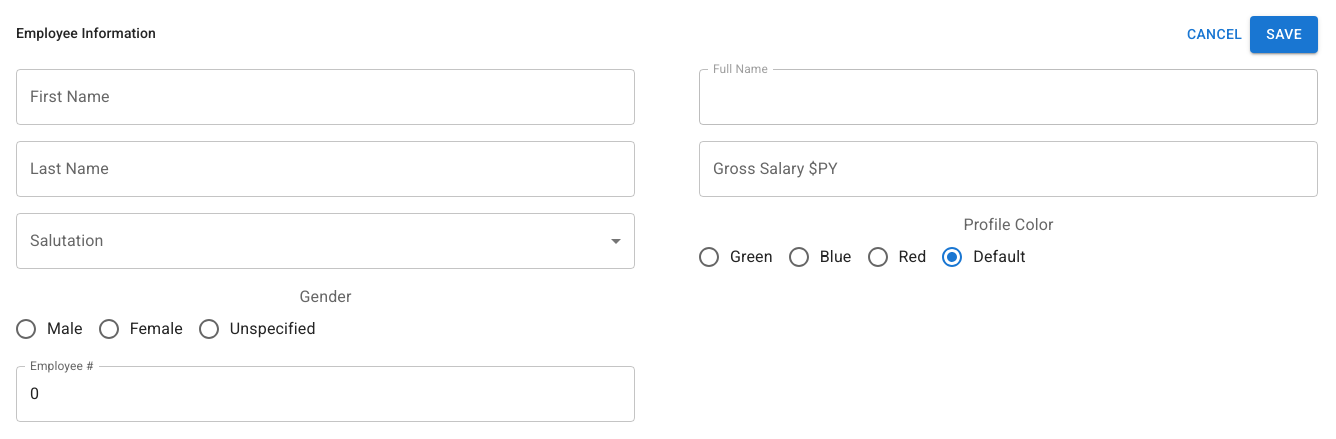
Form Reset Functionality › should reset form to initial empty state when Cancel is clicked with no employee
// Fill out form
In the field labelled "First Name": (326, 96) [16,68,635,124], type "Jane"
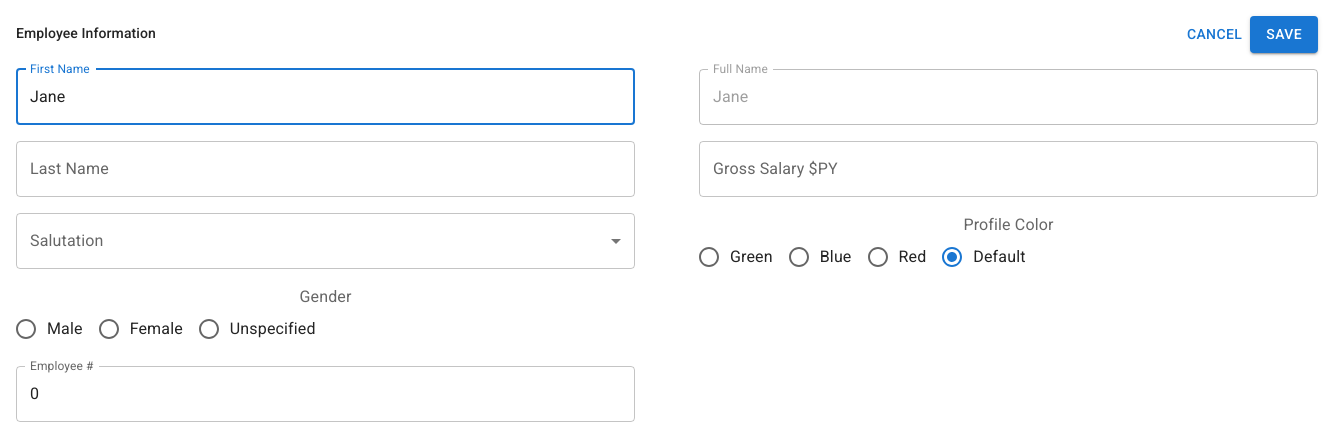
In the field labelled "Last Name": (326, 168) [16,140,635,196], type "Smith"
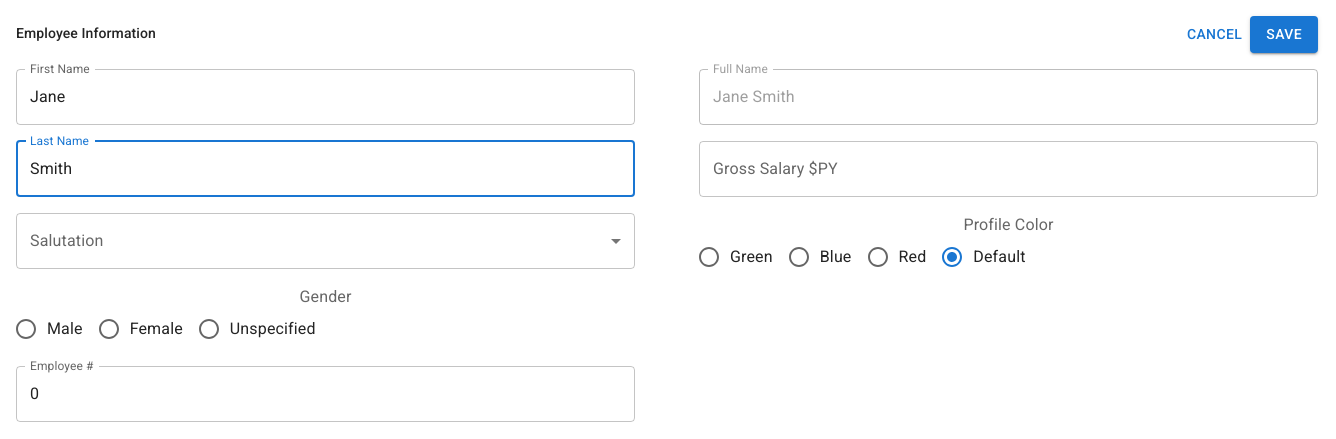
// Click Cancel
Click the button "Cancel": (1215, 34) [1179,16,1250,52]
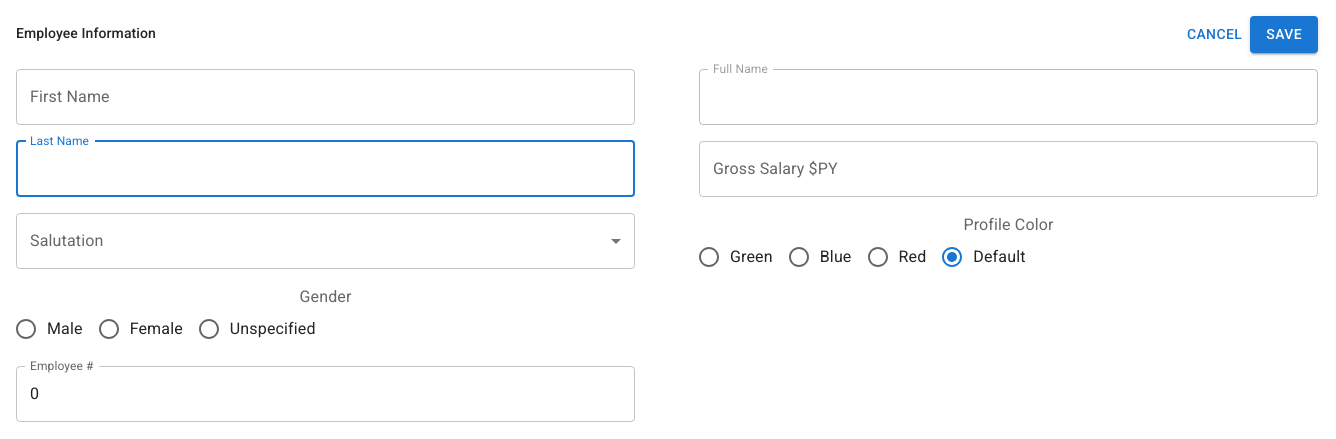
Expected: the field labelled "First Name" is empty, [16,68,635,124]
Expected: the field labelled "Last Name" is empty, [16,140,635,196]
